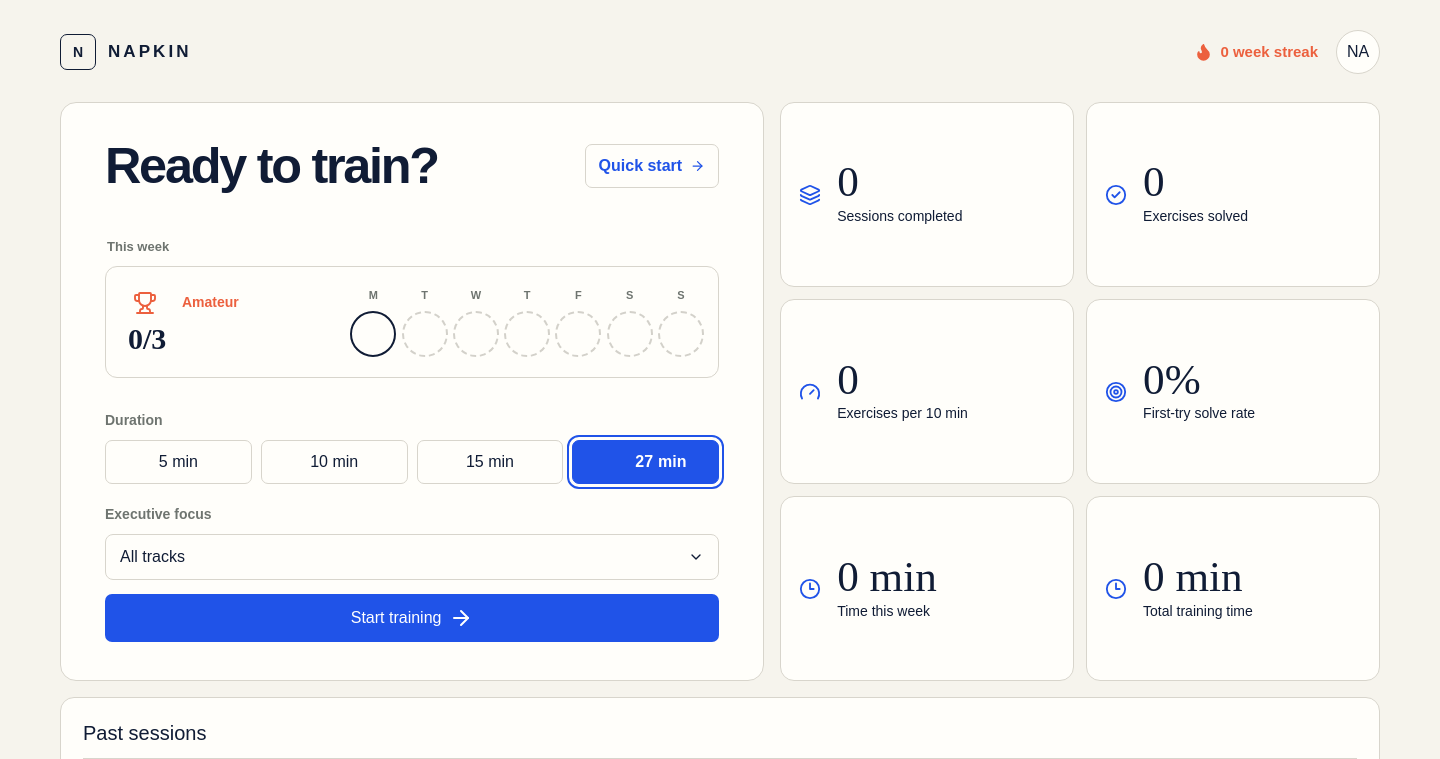
Test: Napkin V1 flow › restores a custom duration and carries it into normal practice
The image size is (1440, 759).
Expected: the number field named "Custom duration in minutes" holds "27", [605,450,653,474]
Click the button "Start training" at (412, 618), box [105,594,719,642]
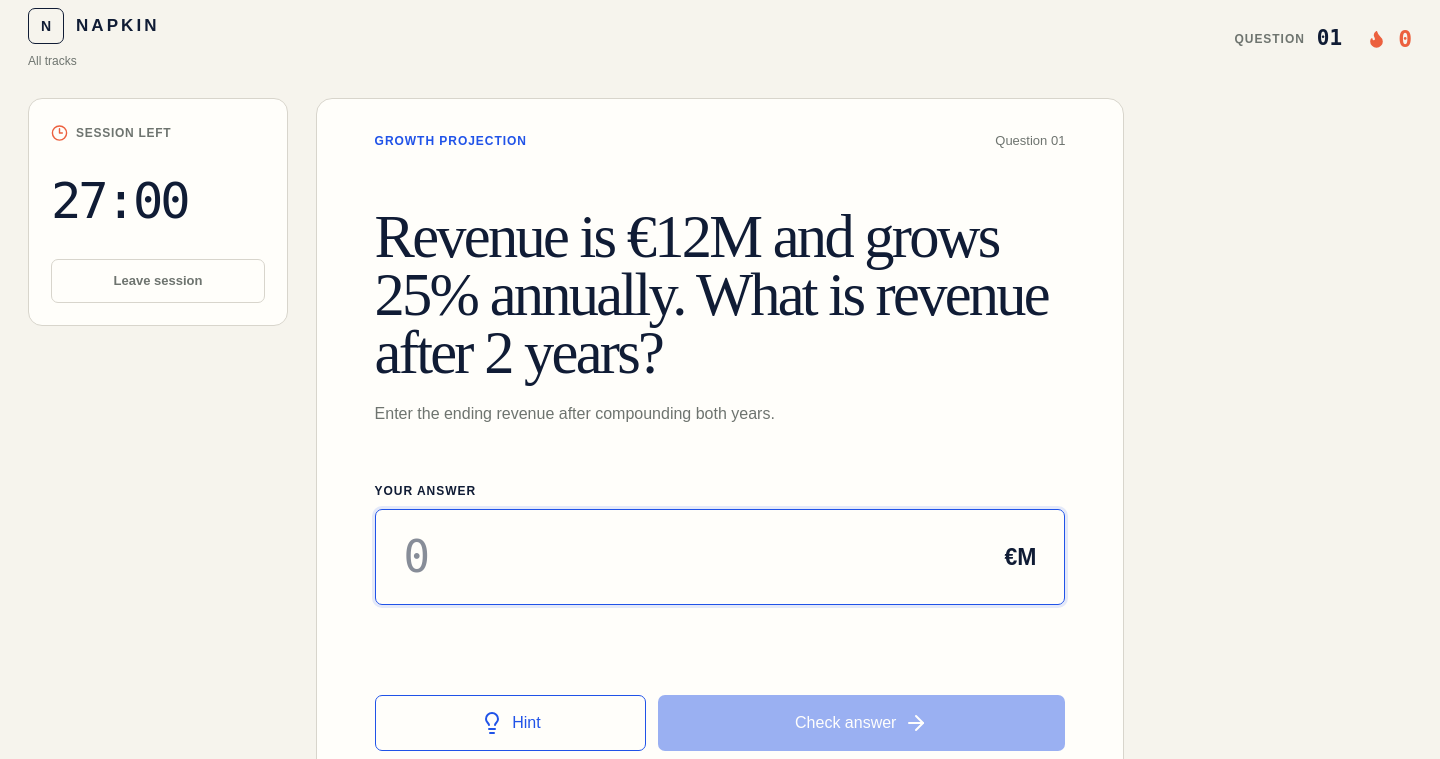
Expected: the text "27:00" is shown, [51,171,188,230]
